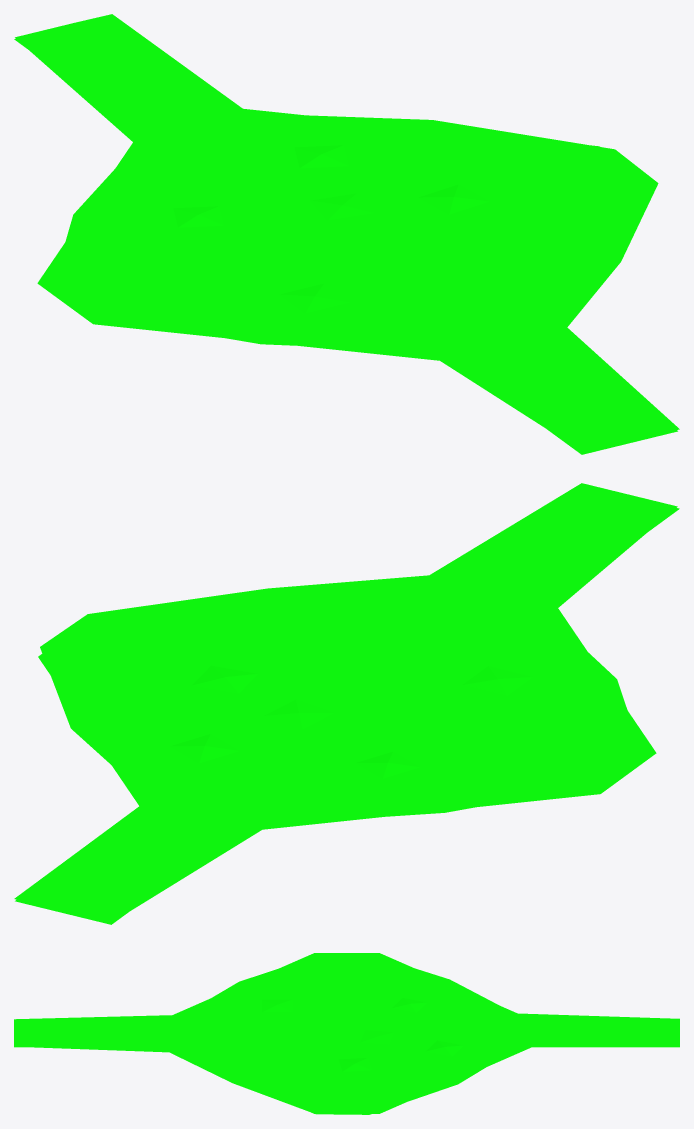
Rendered from s07b_ic1-floor.glb.
3 views of the same model, one above another, from view 1: azimuth 30°, elevation 25°; view 2: azimuth 150°, elevation 25°; view 3: azimuth 270°, elevation 25° (orthographic). The views are drawn at different scales.
Visible parts, largest first — view 1: collision_floor-colonly; view 2: collision_floor-colonly; view 3: collision_floor-colonly.
Part boxes in pixels (<box>): collision_floor-colonly: <box>14,14,679,454</box>; collision_floor-colonly: <box>14,483,679,924</box>; collision_floor-colonly: <box>14,953,679,1114</box>.
Size of the model in its own units: 35.29 by 0.3379 by 61.
